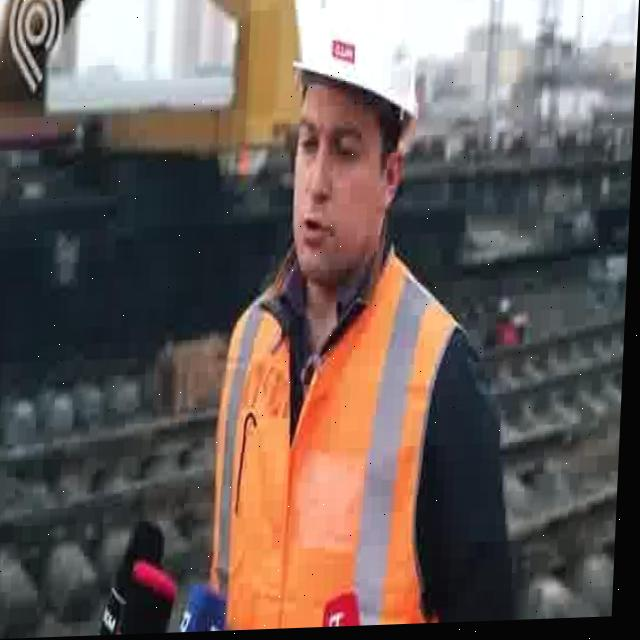Helmet: (292, 7, 426, 125)
Safety-Vest: (213, 250, 470, 633)
